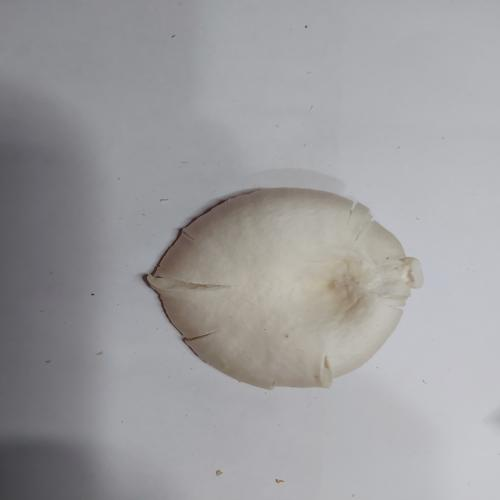Oyster Mushroom: (143, 186, 424, 391)
